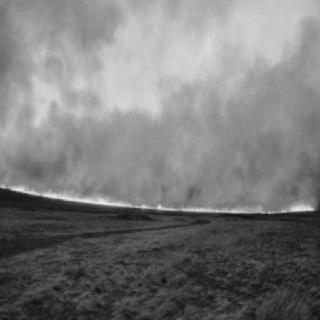Fire: (2, 158, 316, 216)
